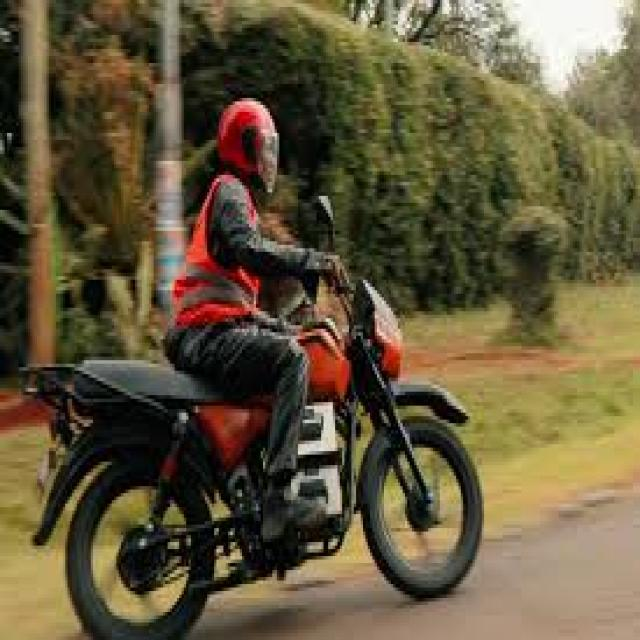bodaboda: (9, 180, 536, 640)
